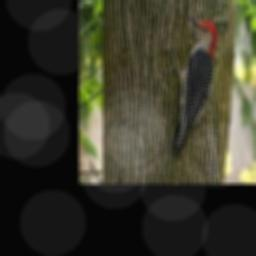Woodpecker: (167, 14, 217, 152)
